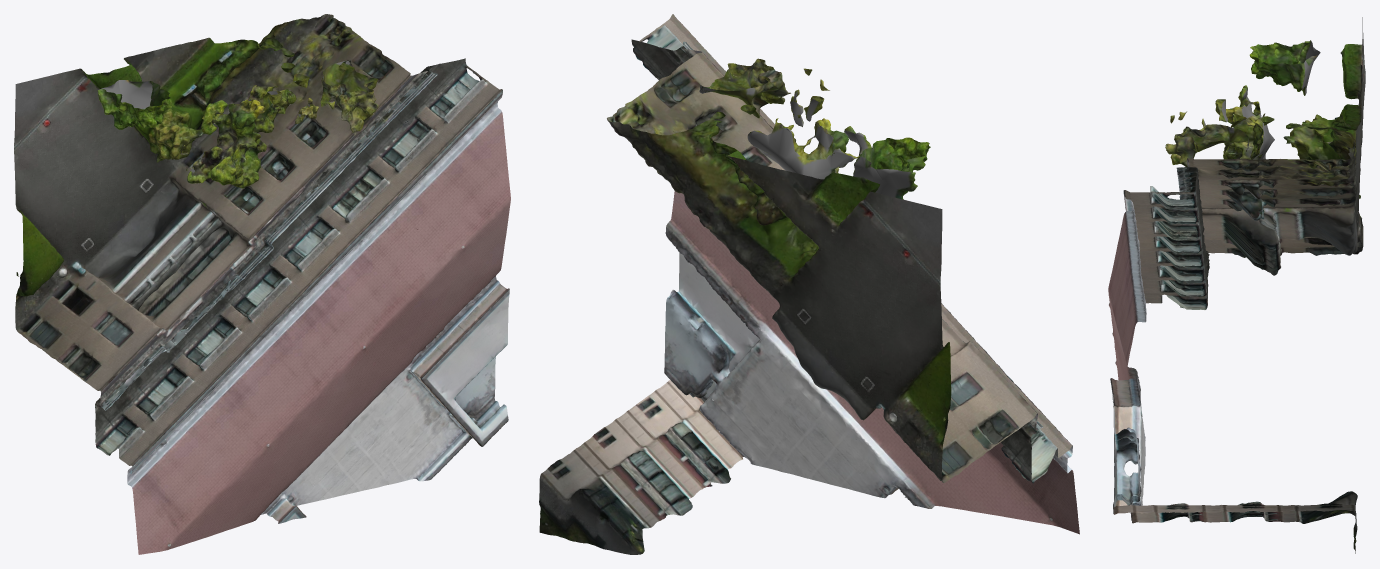
The model's file is Tile_+004_+025.fbx.
The picture shows the model from 3 angles, left to right: view 1: azimuth 30°, elevation 25°; view 2: azimuth 150°, elevation 25°; view 3: azimuth 270°, elevation 25°; orthographic projection. The views are drawn at different scales.
Visible parts, largest first — view 1: DefaultName; view 2: DefaultName; view 3: DefaultName.
Part boxes in pixels (x1=…): DefaultName: x1=14, y1=14, x2=510, y2=554; DefaultName: x1=539, y1=14, x2=1079, y2=554; DefaultName: x1=1108, y1=17, x2=1365, y2=553.
Bounding box in the file's own units: 22.54 × 22.54 × 14.27.
